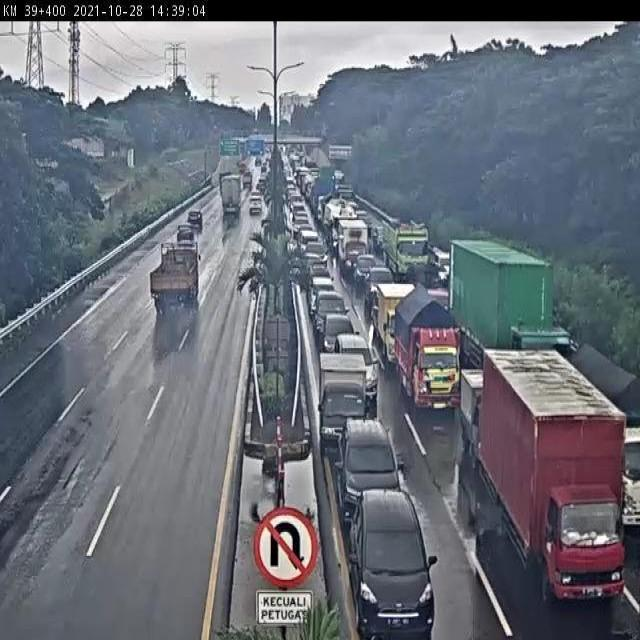car: (348, 486, 441, 640), (338, 411, 408, 532), (335, 322, 379, 406), (322, 308, 364, 365), (313, 286, 351, 346), (366, 262, 396, 314), (310, 271, 339, 317), (435, 238, 458, 286), (352, 252, 378, 292), (302, 237, 327, 272), (184, 203, 207, 231), (307, 256, 331, 281), (173, 219, 196, 243), (245, 192, 264, 216)
truck: (473, 331, 635, 620), (444, 228, 576, 388), (569, 339, 640, 545), (392, 284, 464, 417), (313, 348, 377, 457), (373, 271, 427, 375), (145, 235, 205, 316), (454, 360, 502, 456), (377, 214, 440, 282), (334, 214, 371, 274), (215, 165, 246, 216)
